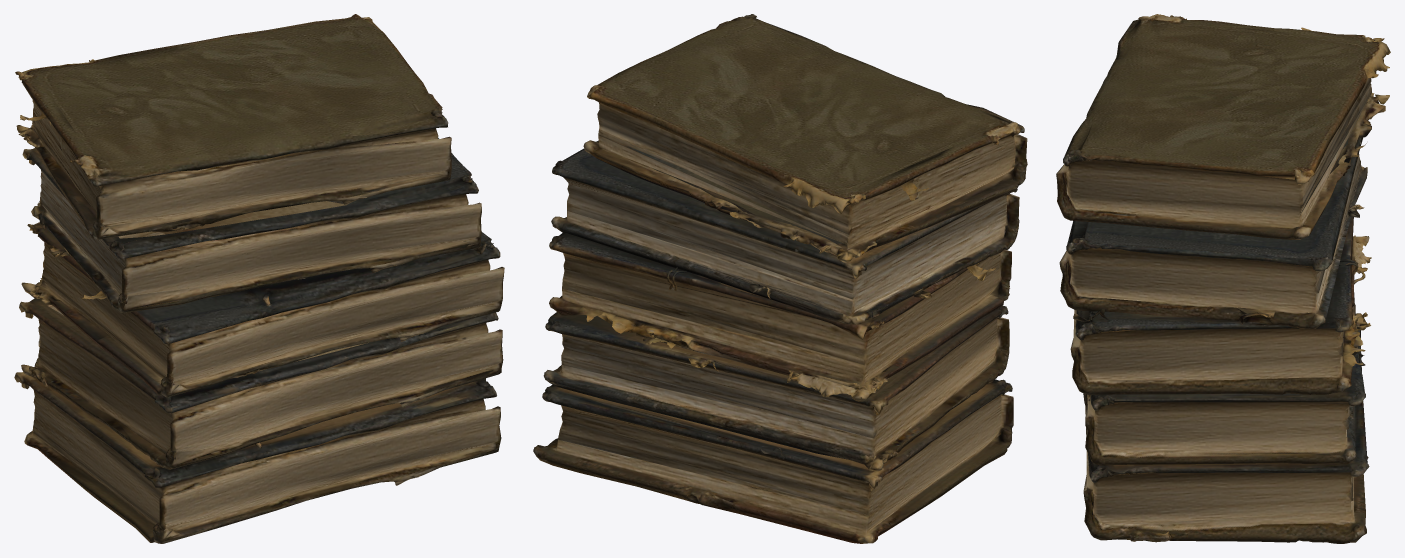
Rendered from prop-books-stack-v01.glb.
3 renders of one model, left to right at view 1: azimuth 30°, elevation 25°; view 2: azimuth 150°, elevation 25°; view 3: azimuth 270°, elevation 25°, orthographic. The views are drawn at different scales.
Visible parts, largest first — view 1: tripo_node_ba57d47b-3864-4b5c-a891-13edbbaaa70e; view 2: tripo_node_ba57d47b-3864-4b5c-a891-13edbbaaa70e; view 3: tripo_node_ba57d47b-3864-4b5c-a891-13edbbaaa70e.
Boxes of the visible parts, x1,y1,x2,y2 form: tripo_node_ba57d47b-3864-4b5c-a891-13edbbaaa70e: (14, 14, 504, 543); tripo_node_ba57d47b-3864-4b5c-a891-13edbbaaa70e: (533, 14, 1027, 543); tripo_node_ba57d47b-3864-4b5c-a891-13edbbaaa70e: (1056, 14, 1390, 543).
Bounding box in the file's own units: 0.2168 × 0.199 × 0.1659.
Materials: 1 (1 with a texture image).
